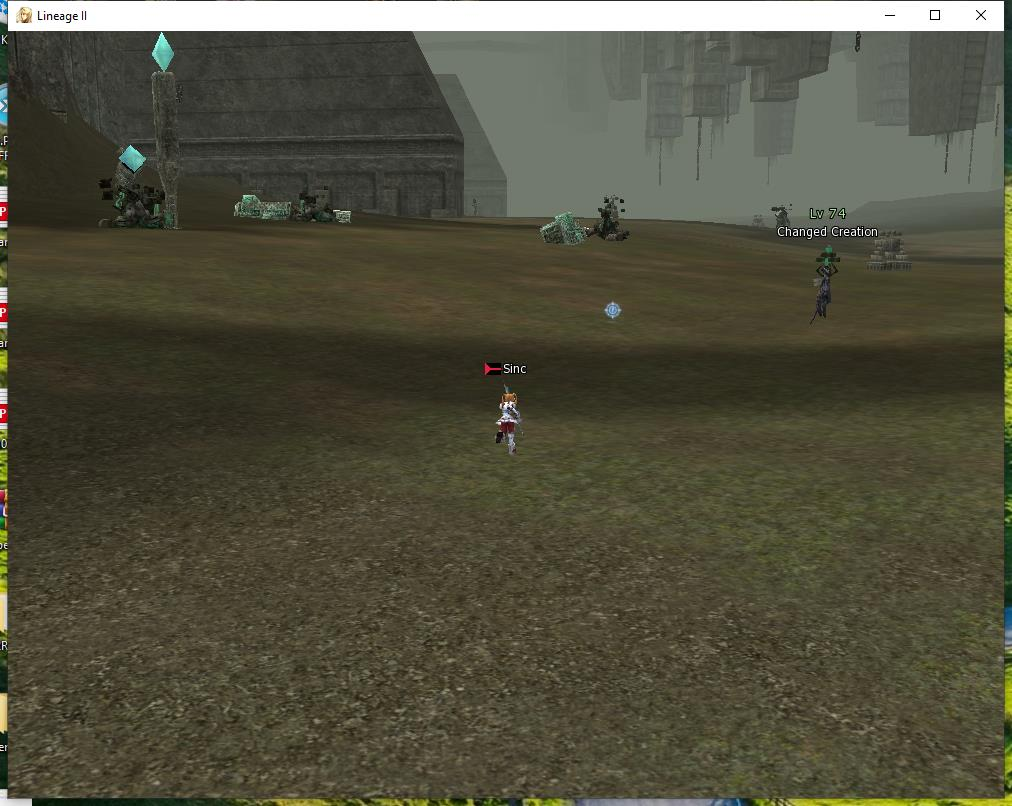monster: (782, 198, 874, 331), (103, 124, 186, 232), (532, 183, 642, 258), (230, 178, 355, 236), (875, 218, 919, 274)
